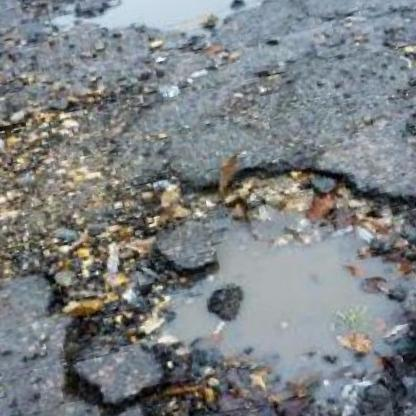pothole: (4, 123, 416, 416), (15, 0, 322, 67)
